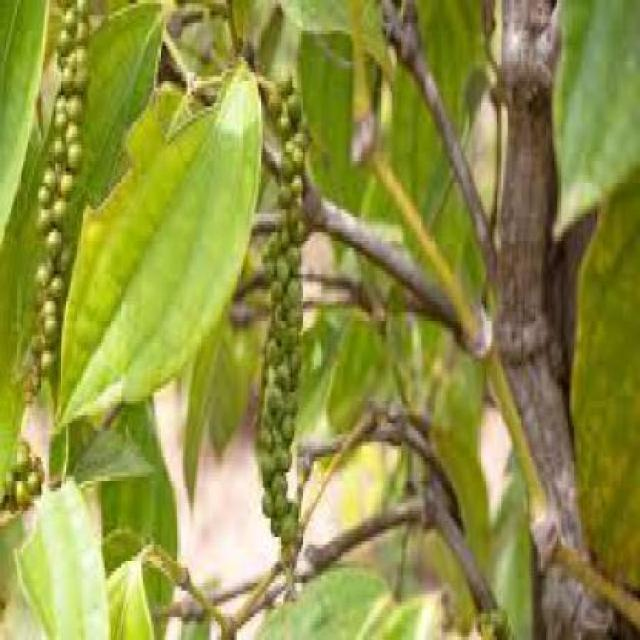UNRIPE: (3, 0, 92, 511), (263, 80, 308, 571)
